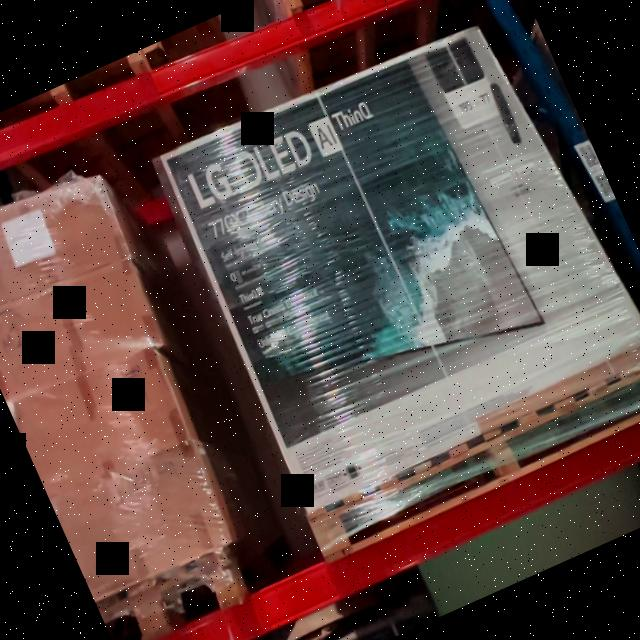box: (166, 29, 630, 507), (0, 177, 127, 311)
